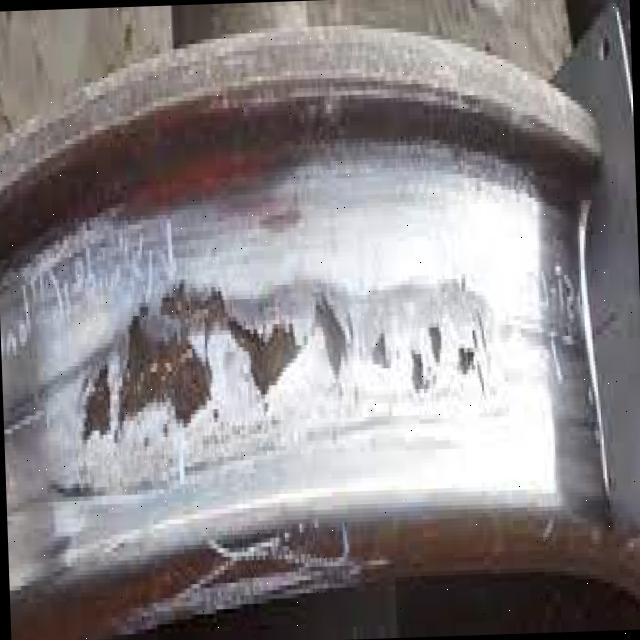Peeling: (50, 176, 345, 517)
